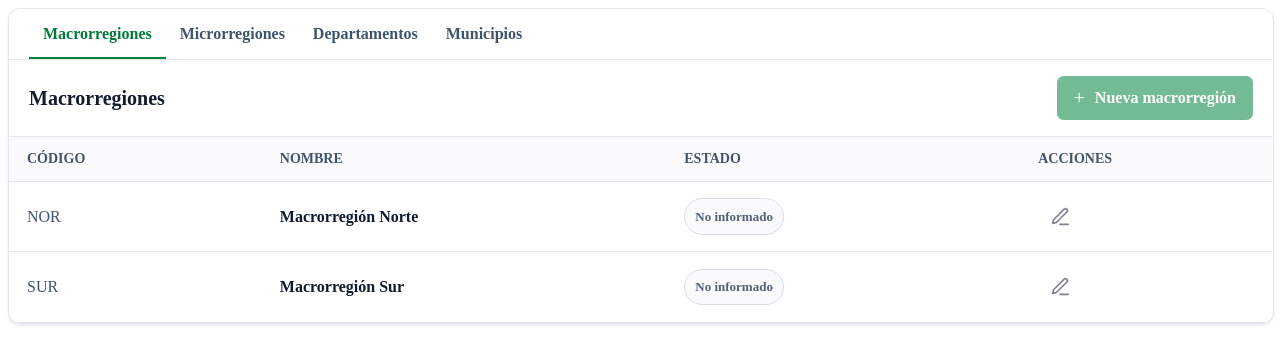
Test: GeographyHierarchy › filtra municipios por departamento y deja macrorregiones sin filtro geográfico
expect the button "Macrorregión Sur" is shown: met, box [280,272,404,302]
Click the button "Macrorregión Norte": (349, 216) [280,202,418,232]
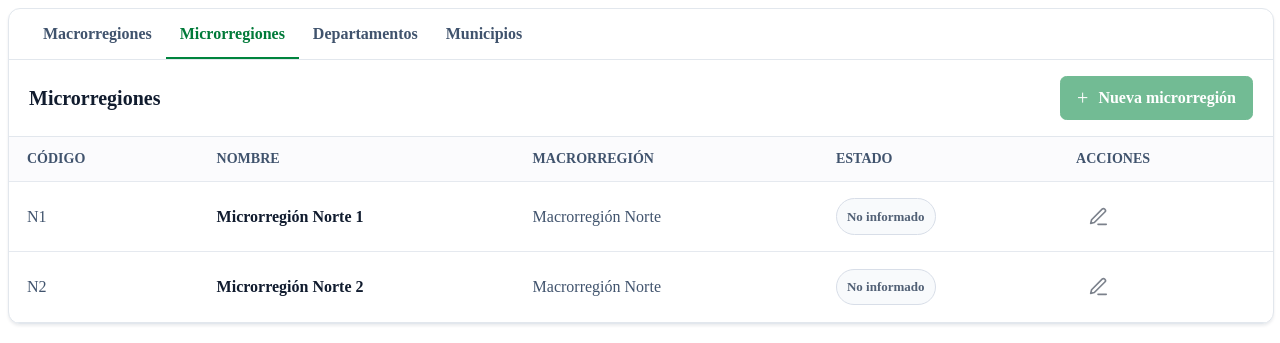
Click the button "Microrregión Norte 1": (290, 216) [217,202,364,232]
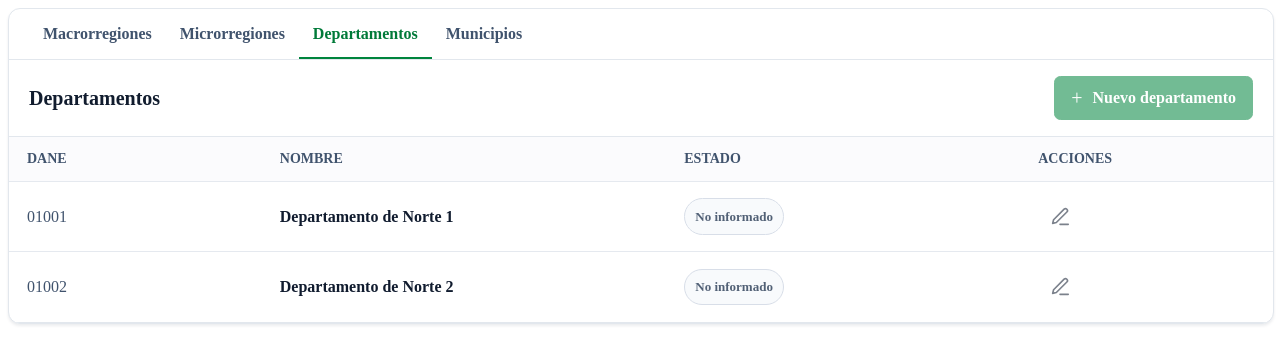
Click the button "Departamento de Norte 1": (367, 216) [280,202,454,232]
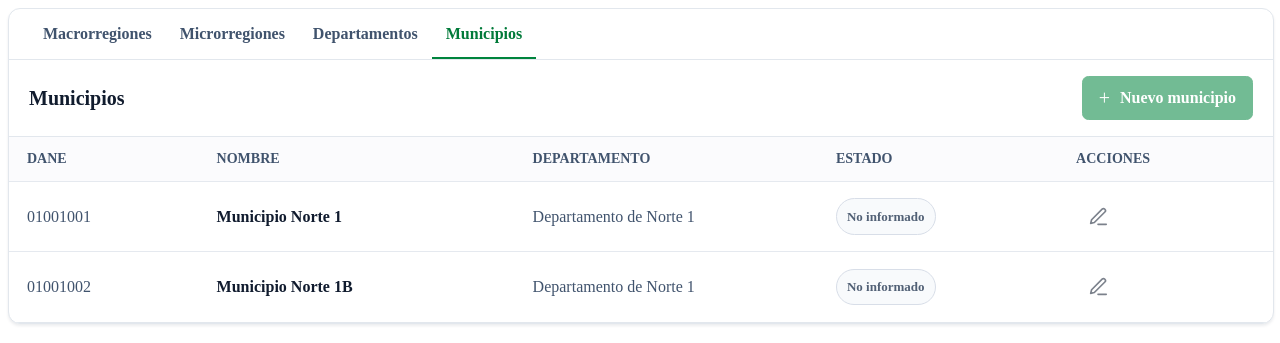
expect the button "Municipio Norte 1" is shown: met, box [217,202,342,232]
expect the button "Municipio Norte 1B" is shown: met, box [217,272,353,302]
